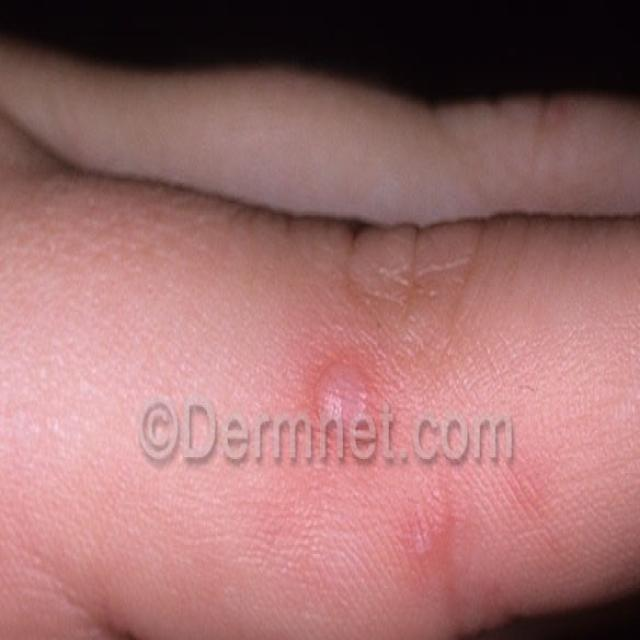Viral Infections: (292, 330, 397, 457), (401, 489, 464, 574)
